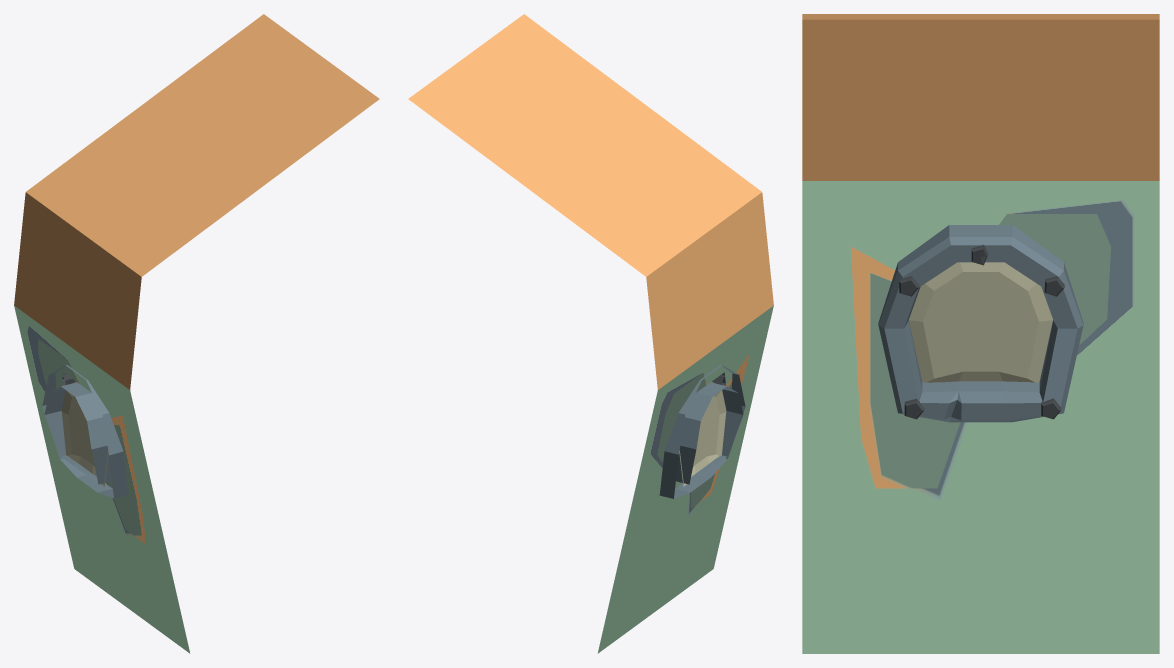
Rendered from Lateral3.FBX.
3 renders of one model, left to right at view 1: azimuth 30°, elevation 25°; view 2: azimuth 150°, elevation 25°; view 3: azimuth 270°, elevation 25°, orthographic. The views are drawn at different scales.
Visible parts, largest first — view 1: Laterales02; view 2: Laterales02; view 3: Laterales02.
Boxes of the visible parts, x1,y1,x2,y2 form: Laterales02: (14,14,379,653); Laterales02: (408,14,773,653); Laterales02: (802,14,1159,653).
Bounding box in the file's own units: 379 × 300 × 725.
1 material, 1 textured.
